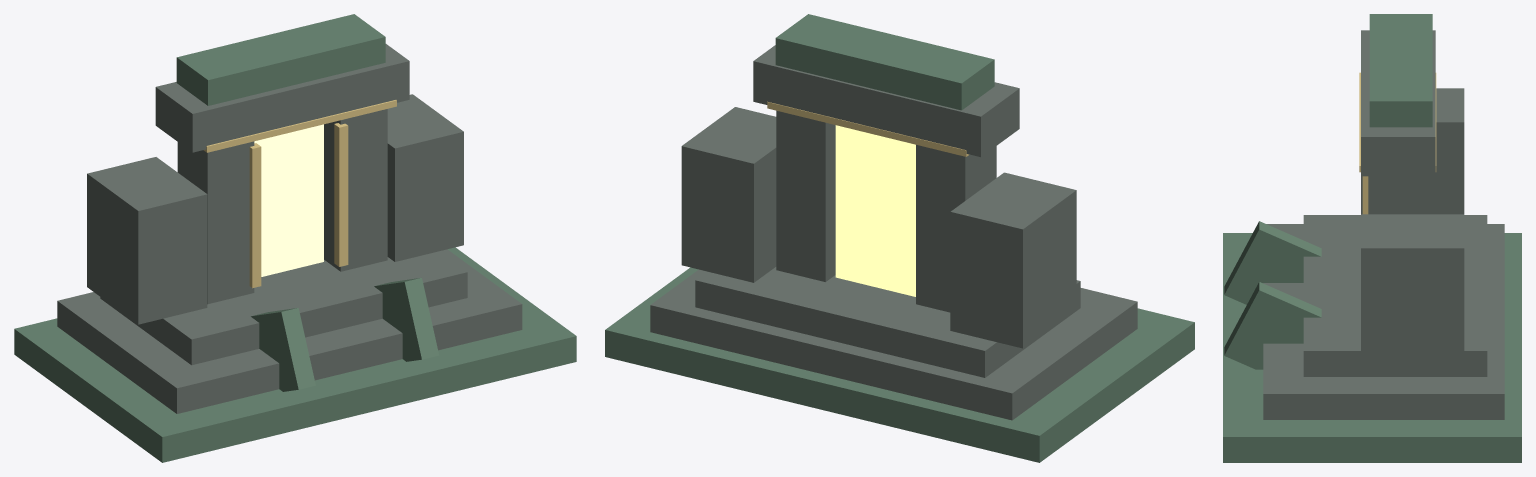
The model's file is ancient-temple.glb.
The picture shows the model from 3 angles, left to right: view 1: azimuth 30°, elevation 25°; view 2: azimuth 150°, elevation 25°; view 3: azimuth 270°, elevation 25°; orthographic projection. The views are drawn at different scales.
Parts seen in each view (by area): view 1: ancient-temple; view 2: ancient-temple; view 3: ancient-temple.
Boxes of the visible parts, bbox=[...] form: ancient-temple: bbox=[14, 14, 576, 462]; ancient-temple: bbox=[605, 14, 1194, 462]; ancient-temple: bbox=[1223, 14, 1521, 462].
Size of the model in its own units: 8.4 by 6.15 by 5.2.
